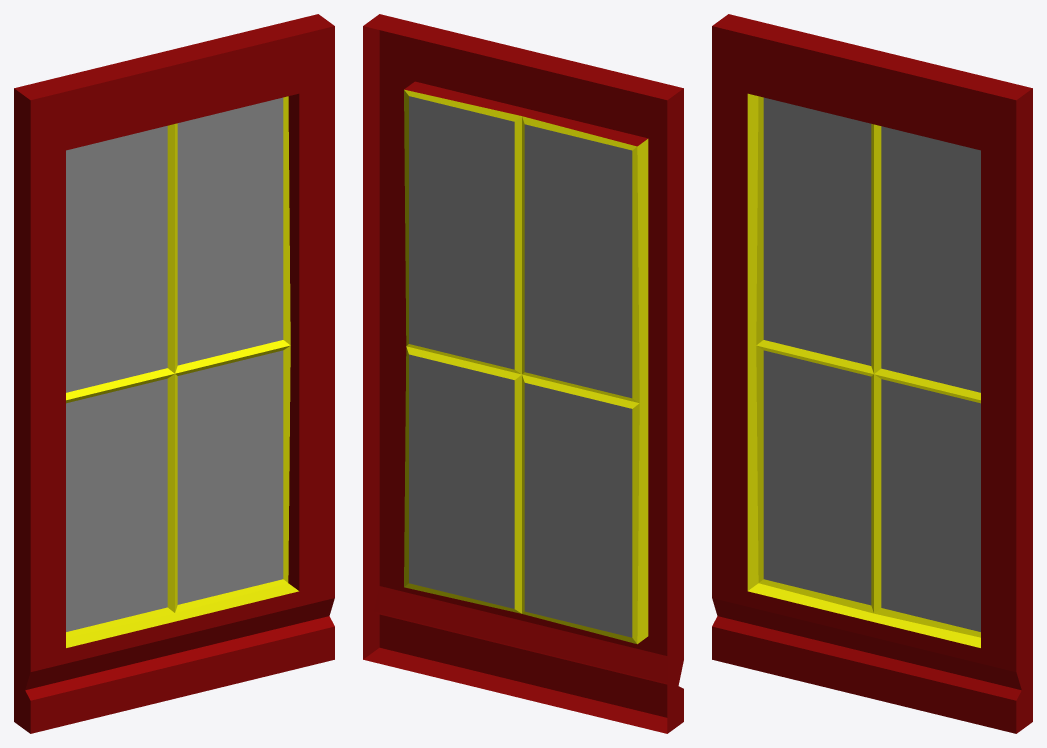
The model's file is Window.FBX.
3 views of the same model, side by side, from view 1: azimuth 30°, elevation 25°; view 2: azimuth 150°, elevation 25°; view 3: azimuth 330°, elevation 25° (orthographic).
Parts seen in each view (by area): view 1: Box007; view 2: Box007; view 3: Box007.
Boxes of the visible parts, x1=… form: Box007: x1=14, y1=14, x2=334, y2=733; Box007: x1=363, y1=14, x2=683, y2=733; Box007: x1=712, y1=14, x2=1032, y2=733.
Bounding box in the file's own units: 104 × 207 × 9.75.
